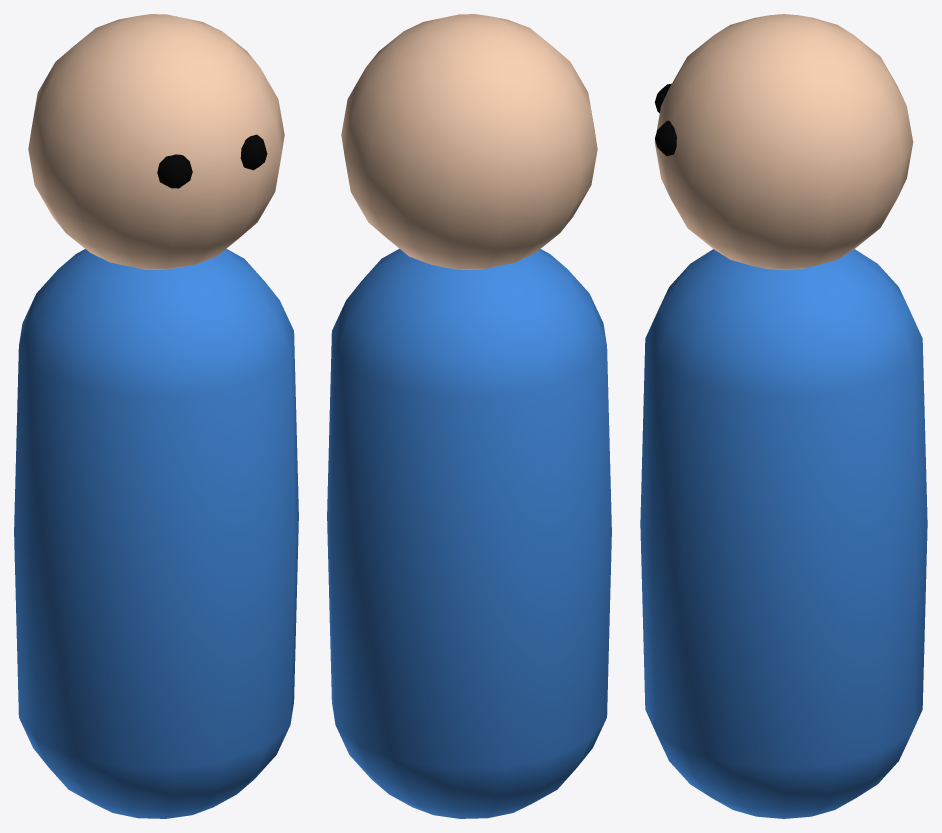
Rendered from player.glb.
3 renders of one model, left to right at view 1: azimuth 30°, elevation 25°; view 2: azimuth 150°, elevation 25°; view 3: azimuth 270°, elevation 25°, orthographic.
Parts seen in each view (by area): view 1: player_body, player_head, player_eye_R, player_eye_L; view 2: player_body, player_head; view 3: player_body, player_head, player_eye_L.
Part boxes in pixels (box(x1,y1,x2,y2)): player_body: box(14, 249, 298, 818); player_head: box(28, 14, 284, 269); player_eye_R: box(157, 154, 192, 188); player_eye_L: box(240, 134, 267, 170); player_body: box(327, 249, 611, 818); player_head: box(341, 14, 597, 269); player_body: box(640, 249, 927, 818); player_head: box(654, 14, 913, 270); player_eye_L: box(655, 120, 676, 155).
Size of the model in its own units: 0.6 by 1.8 by 0.6.
